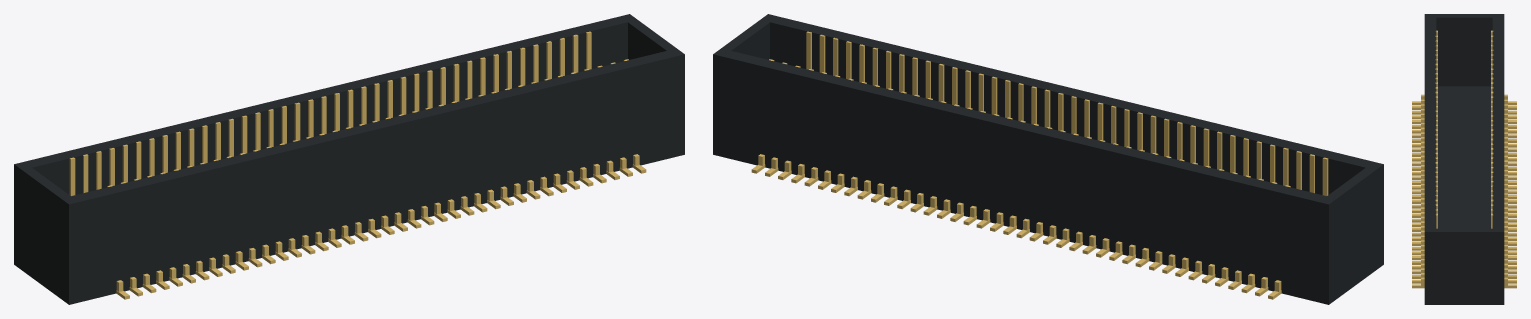
The model's file is df40-80hc3ds-preview.glb.
The picture shows the model from 3 angles, left to right: view 1: azimuth 30°, elevation 25°; view 2: azimuth 150°, elevation 25°; view 3: azimuth 270°, elevation 25°; orthographic projection. The views are drawn at different scales.
Parts seen in each view (by area): view 1: df40-80hc3ds-preview; view 2: df40-80hc3ds-preview; view 3: df40-80hc3ds-preview.
Part boxes in pixels (<box>): df40-80hc3ds-preview: <box>14,14,684,304</box>; df40-80hc3ds-preview: <box>713,14,1383,304</box>; df40-80hc3ds-preview: <box>1412,14,1516,304</box>.
Size of the model in its own units: 18.6 by 2.9 by 3.78.
